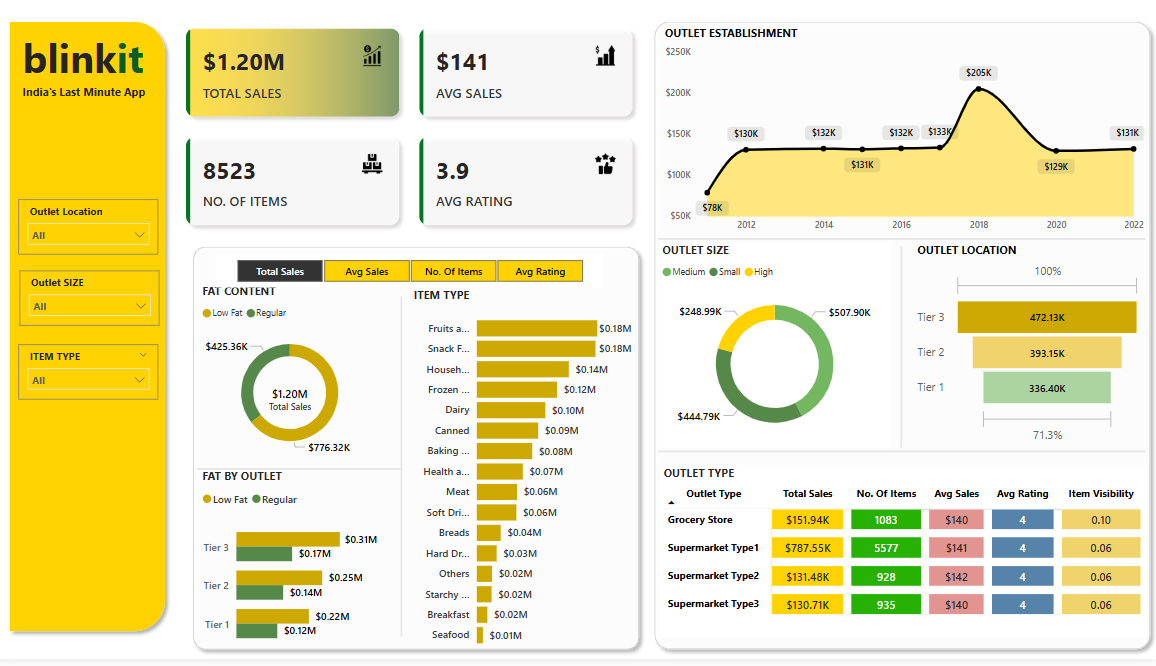

The page's visual inventory and layout, read from the dashboard file:
{"tool":"powerbi","page":{"name":"Page 1","canvas":[1400,800],"ordinal":0},"visuals":[{"type":"shape","box":[11.7,25,205,750],"z":0},{"type":"textbox","box":[31.7,38.3,168.3,81.7],"z":1000},{"type":"textbox","box":[31.7,105,168.3,31.7],"z":2000},{"type":"cardVisual","fields":{"Data":["BlinkIT Grocery Data.Total Sales","BlinkIT Grocery Data.Avg Sales","BlinkIT Grocery Data.No. Of Items","BlinkIT Grocery Data.Avg Rating"]},"box":[216.7,25,570,270],"z":3000},{"type":"shape","box":[233.3,295,553.3,501.7],"z":4000},{"type":"donutChart","title":"FAT CONTENT","fields":{"Y":["BlinkIT Grocery Data.Total Sales"],"Category":["BlinkIT Grocery Data.Item Fat Content"]},"box":[248.3,348.3,220,218.3],"z":5000},{"type":"slicer","fields":{"Values":["Metrics.Metrics"]},"box":[268.3,313.3,465,40],"z":6000},{"type":"cardVisual","fields":{"Data":["BlinkIT Grocery Data.Total Sales"]},"box":[311.7,455,91.7,58.3],"z":7000},{"type":"clusteredBarChart","title":"FAT BY OUTLET","fields":{"Y":["BlinkIT Grocery Data.Total Sales"],"Category":["BlinkIT Grocery Data.Outlet Location Type"],"Series":["BlinkIT Grocery Data.Item Fat Content"]},"box":[248.3,570,220,230],"z":8000},{"type":"shape","box":[246.4,551.8,245.5,38.2],"z":9000},{"type":"shape","box":[385,365,211.7,408.3],"z":10000},{"type":"barChart","title":"ITEM TYPE","fields":{"Y":["BlinkIT Grocery Data.Total Sales"],"Category":["BlinkIT Grocery Data.Item Type"]},"box":[501.7,353.3,271.7,443.3],"z":11000},{"type":"shape","box":[786.7,25,613.3,771.7],"z":12000},{"type":"lineChart","title":"OUTLET ESTABLISHMENT","fields":{"Category":["BlinkIT Grocery Data.Outlet Establishment Year"],"Y":["BlinkIT Grocery Data.Total Sales"]},"box":[803.3,38.3,585,256.7],"z":13000},{"type":"shape","box":[800,276.7,585,38.3],"z":14000},{"type":"donutChart","title":"OUTLET SIZE","fields":{"Y":["BlinkIT Grocery Data.Total Sales"],"Category":["BlinkIT Grocery Data.Outlet Size"]},"box":[800,298.3,280,248.3],"z":15000},{"type":"shape","box":[986.7,305,211.7,241.7],"z":16000},{"type":"funnel","title":"OUTLET LOCATION","fields":{"Y":["Sum(BlinkIT Grocery Data.Sales)"],"Category":["BlinkIT Grocery Data.Outlet Location Type"]},"box":[1106.7,298.3,278.3,248.3],"z":17000},{"type":"shape","box":[800,531.7,585,38.3],"z":18000},{"type":"pivotTable","title":"OUTLET TYPE","fields":{"Rows":["BlinkIT Grocery Data.Outlet Type"],"Values":["BlinkIT Grocery Data.Total Sales","BlinkIT Grocery Data.No. Of Items","BlinkIT Grocery Data.Avg Sales","BlinkIT Grocery Data.Avg Rating","Avg(BlinkIT Grocery Data.Item Visibility)"]},"box":[801.7,566.7,585,206.7],"z":19000},{"type":"slicer","fields":{"Values":["BlinkIT Grocery Data.Outlet Location Type"]},"box":[31.7,248.3,168.3,66.7],"z":20000},{"type":"slicer","fields":{"Values":["BlinkIT Grocery Data.Outlet Size"]},"box":[33.3,333.3,168.3,66.7],"z":21000},{"type":"slicer","fields":{"Values":["BlinkIT Grocery Data.Item Type"]},"box":[31.7,421.7,168.3,66.7],"z":22000}]}

Visuals, with their boxes in screenshot pixels (x1, y1, x2, y2), scaled from the page's 1400x800 canvas onto the 1156x666 screenshot:
shape: 10/21/179/645
textbox: 26/32/165/100
textbox: 26/87/165/114
cardVisual - BlinkIT Grocery Data.Total Sales x BlinkIT Grocery Data.Avg Sales: 179/21/650/246
shape: 193/246/650/663
"FAT CONTENT" donutChart: 205/290/387/472
slicer - Metrics.Metrics: 222/261/605/294
cardVisual - BlinkIT Grocery Data.Total Sales: 257/379/333/427
"FAT BY OUTLET" clusteredBarChart: 205/475/387/665
shape: 203/459/406/491
shape: 318/304/493/644
"ITEM TYPE" barChart: 414/294/639/663
shape: 650/21/1155/663
"OUTLET ESTABLISHMENT" lineChart: 663/32/1146/246
shape: 661/230/1144/262
"OUTLET SIZE" donutChart: 661/248/892/455
shape: 815/254/990/455
"OUTLET LOCATION" funnel: 914/248/1144/455
shape: 661/443/1144/475
"OUTLET TYPE" pivotTable: 662/472/1145/644
slicer - BlinkIT Grocery Data.Outlet Location Type: 26/207/165/262
slicer - BlinkIT Grocery Data.Outlet Size: 27/277/166/333
slicer - BlinkIT Grocery Data.Item Type: 26/351/165/407
